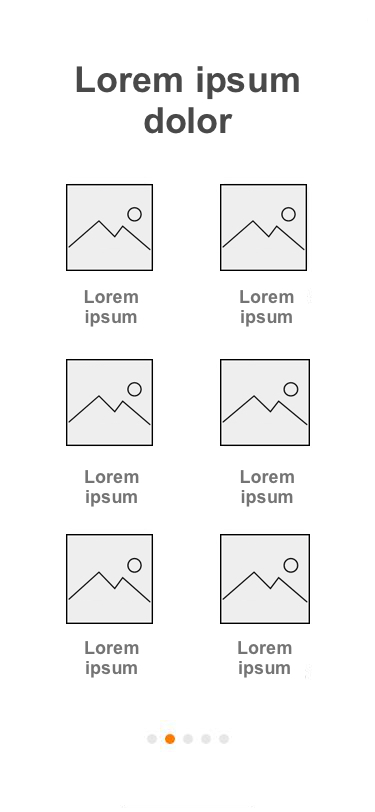Image: (220, 534, 311, 625), (220, 359, 311, 447), (66, 534, 154, 625), (66, 183, 154, 272), (220, 184, 308, 272), (66, 359, 154, 447)
PageIndicator: (146, 733, 231, 744)
Text: (76, 66, 300, 136), (84, 469, 140, 508), (240, 469, 295, 508), (238, 640, 293, 679), (84, 290, 140, 328), (239, 290, 294, 328), (85, 641, 140, 679)
